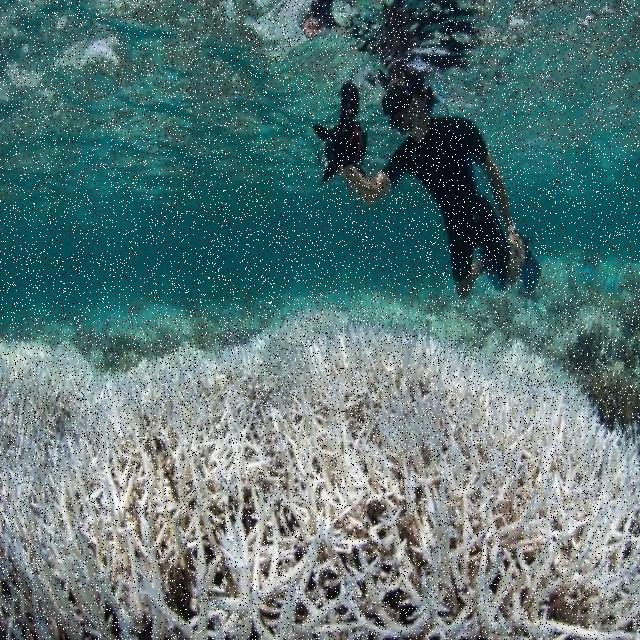Bleached: (1, 312, 640, 640)
